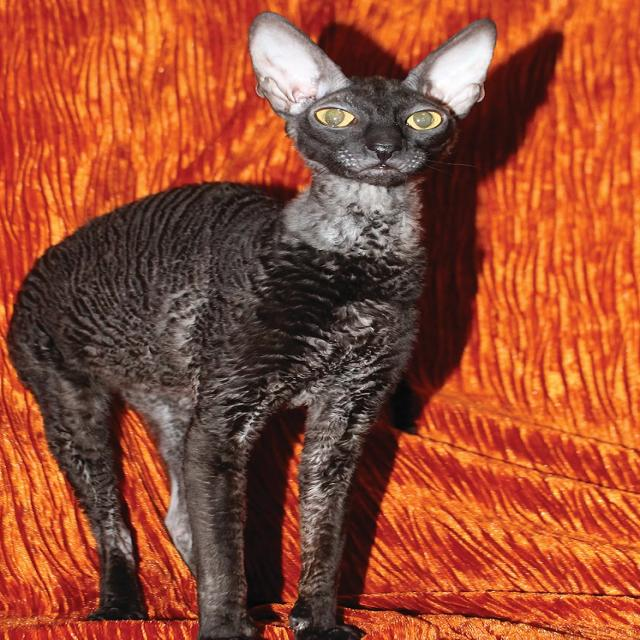Cornish Rex: (0, 4, 513, 640)
